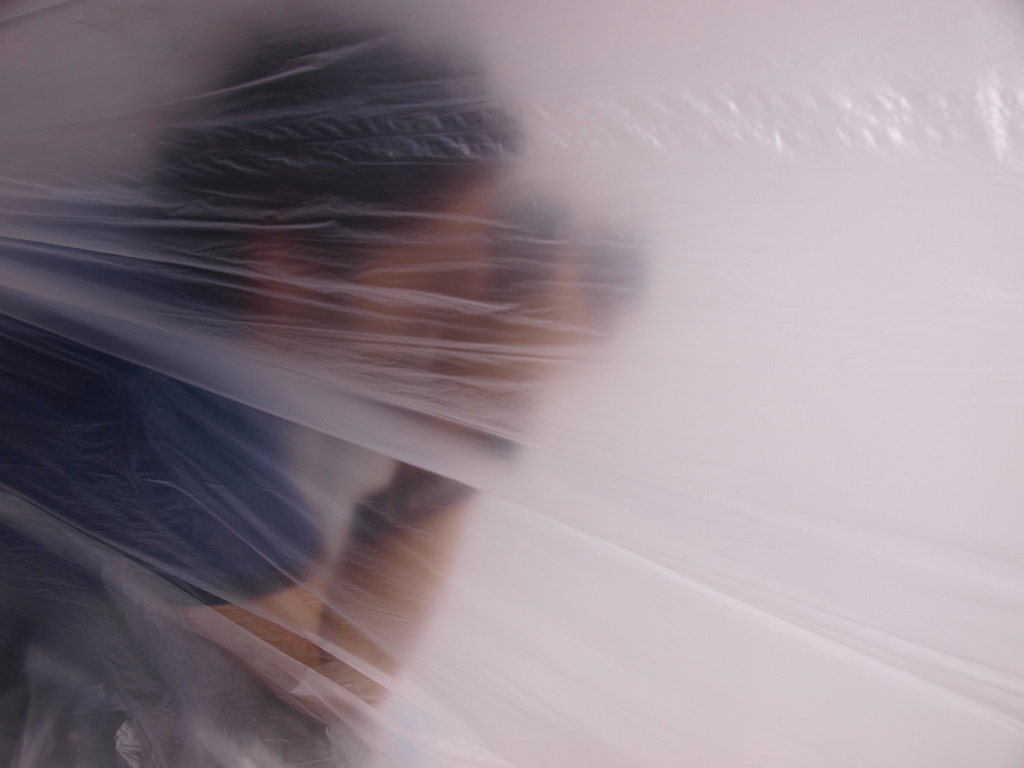Person: (1, 26, 643, 725)
